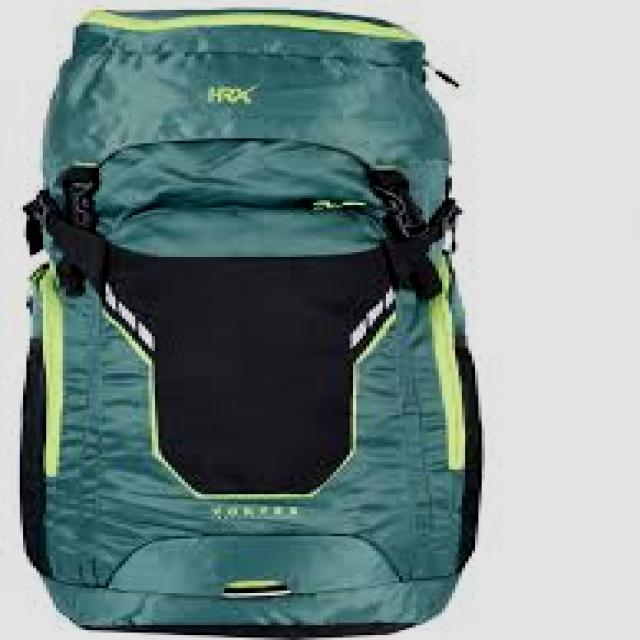backpack: (18, 6, 486, 638)
